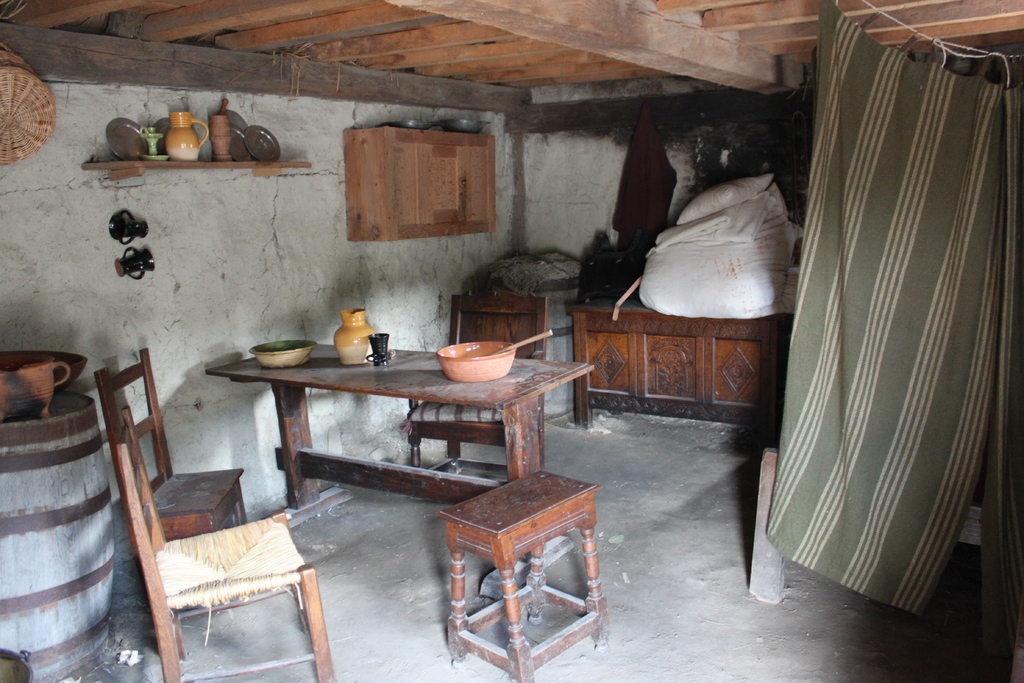Chair: (98, 341, 249, 647)
